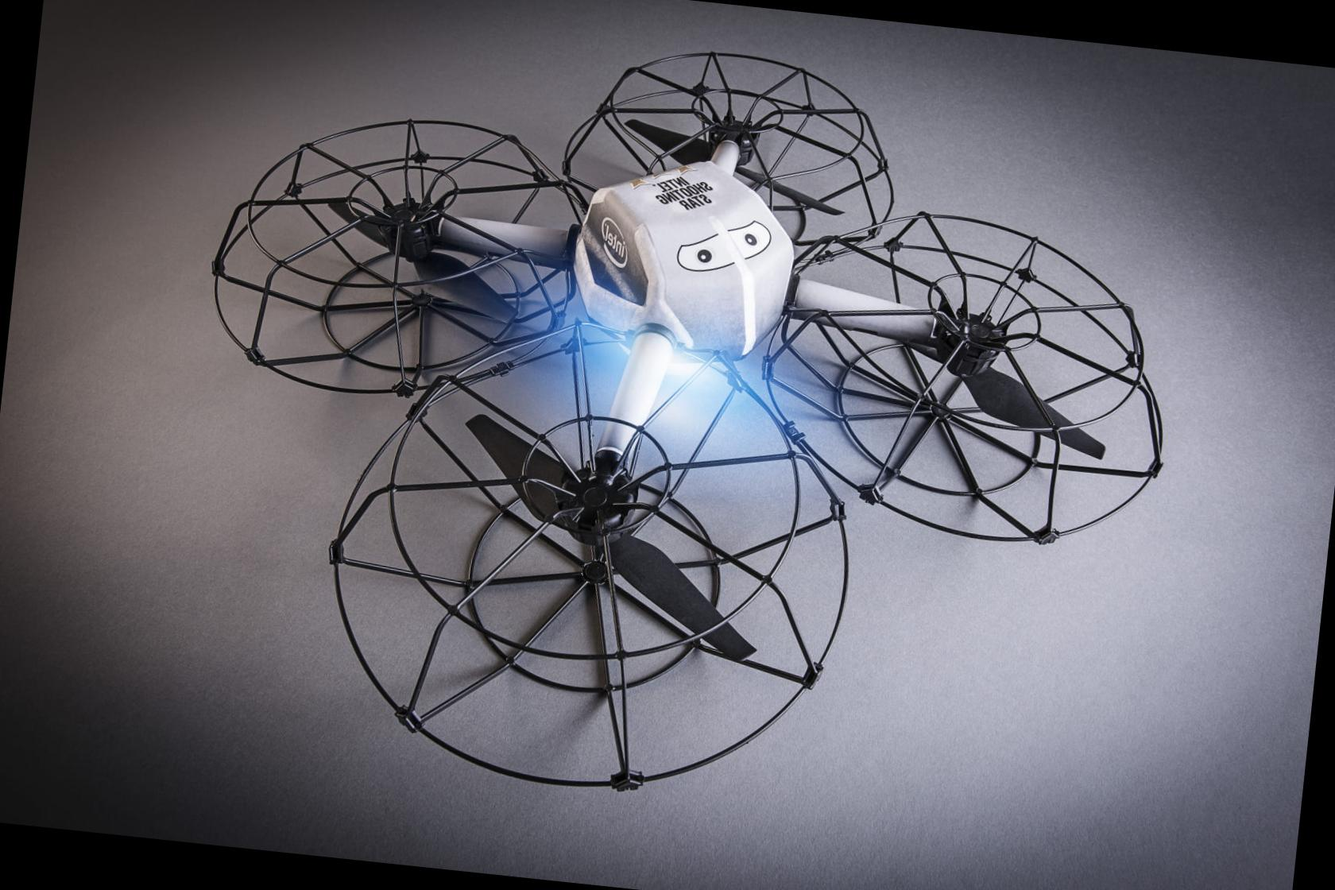drone: (130, 0, 1249, 867)
